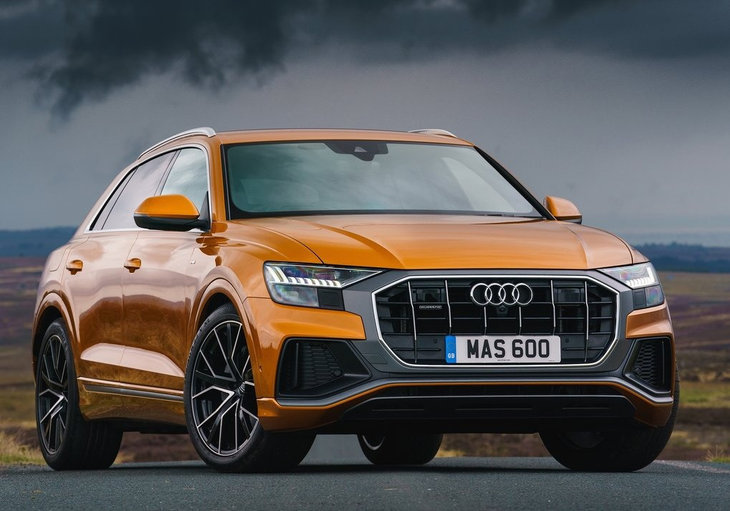audi: (466, 281, 535, 310)
